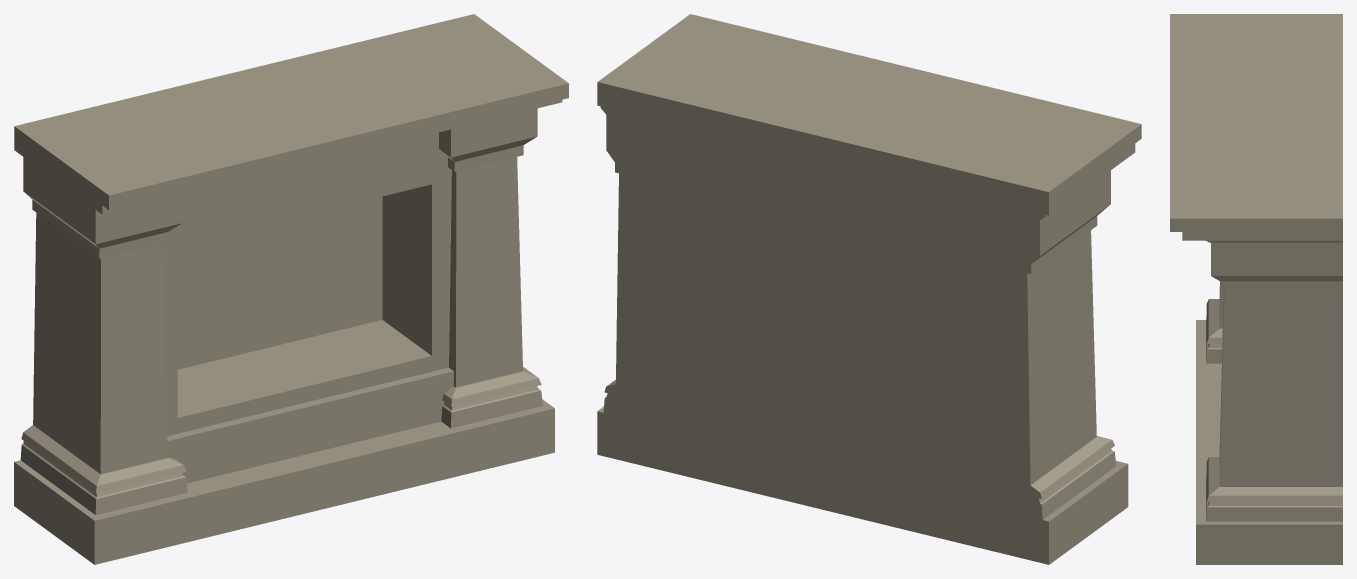
File: quaternius-house-interior-fireplace.glb
The picture shows the model from 3 angles, left to right: view 1: azimuth 30°, elevation 25°; view 2: azimuth 150°, elevation 25°; view 3: azimuth 270°, elevation 25°; orthographic projection. The views are drawn at different scales.
Parts seen in each view (by area): view 1: Fireplace; view 2: Fireplace; view 3: Fireplace.
Part boxes in pixels (<box>): Fireplace: <box>14,14,568,564</box>; Fireplace: <box>597,14,1141,564</box>; Fireplace: <box>1170,14,1342,564</box>.
Bounding box in the file's own units: 3.25 × 2.56 × 1.16.
